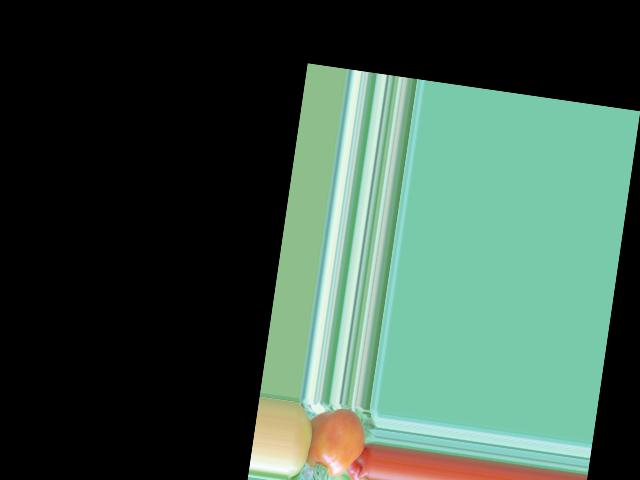tomato: (305, 404, 368, 480)
